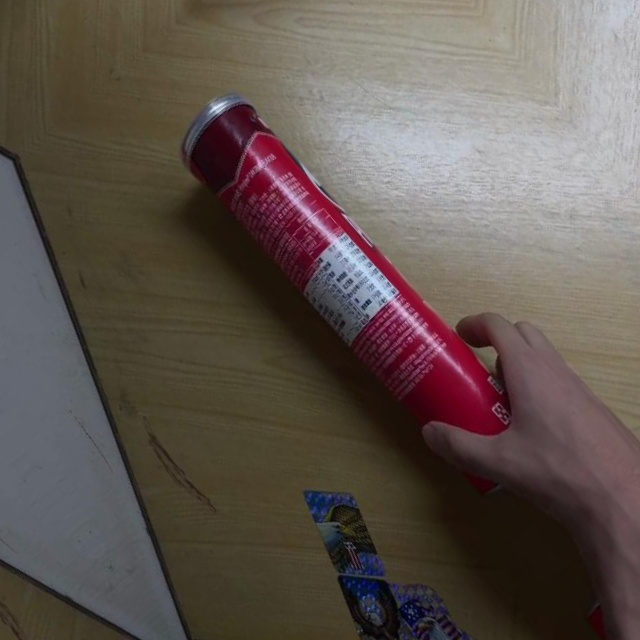Pringles: (162, 71, 561, 517)
